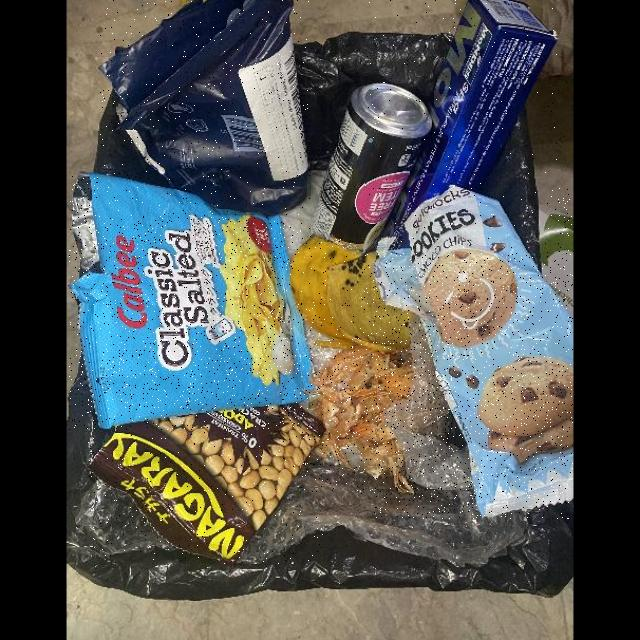biowaste: (302, 346, 414, 494), (290, 236, 412, 354)
metal: (312, 83, 433, 253)
paper: (365, 0, 558, 253)
plastic: (99, 0, 309, 217)
wrapper: (373, 186, 573, 519), (69, 173, 314, 430), (88, 404, 325, 564)
